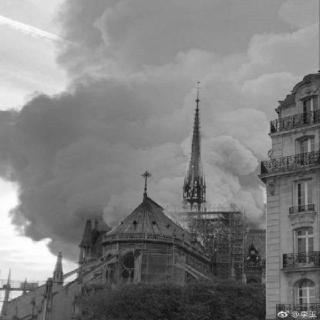other: (163, 154, 229, 236), (8, 204, 68, 268)
